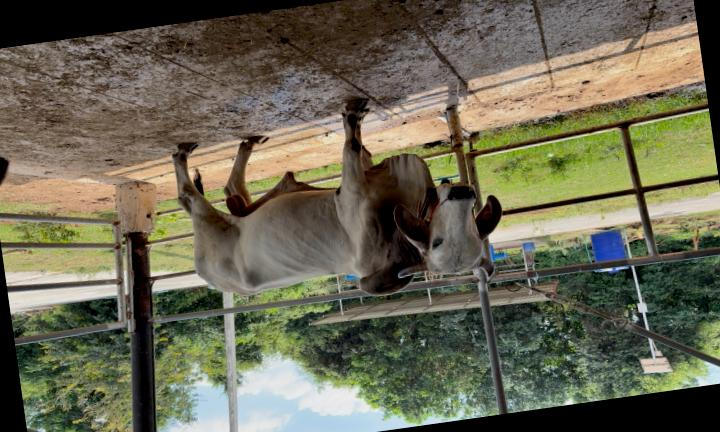Brahman: (173, 99, 502, 296)
